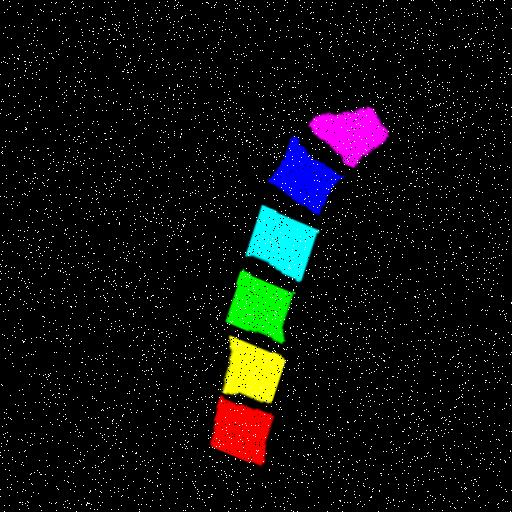L1: (211, 389, 273, 459)
L2: (223, 329, 283, 395)
L3: (227, 265, 293, 335)
L4: (244, 199, 316, 273)
L5: (268, 131, 342, 207)
S1: (308, 98, 387, 159)
